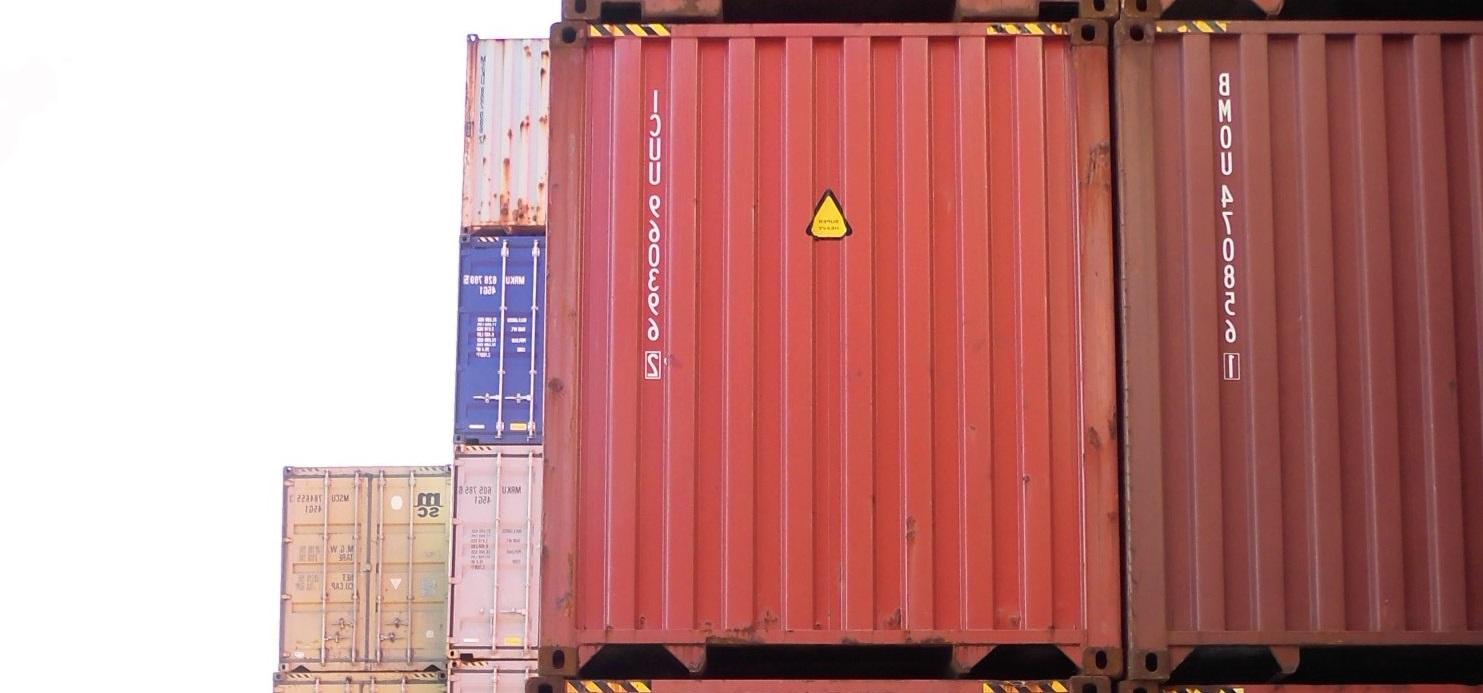container_door: (273, 458, 450, 668), (458, 227, 550, 440), (455, 440, 542, 658)
container_no_door: (545, 22, 1124, 683), (1122, 22, 1481, 683), (465, 29, 555, 229)
